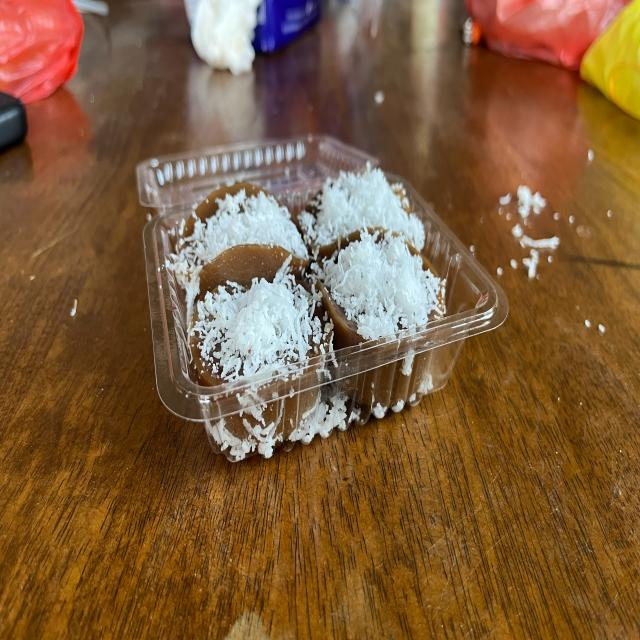Kuih lompang: (170, 184, 309, 322), (189, 262, 332, 387), (314, 229, 445, 349), (299, 167, 425, 260)
